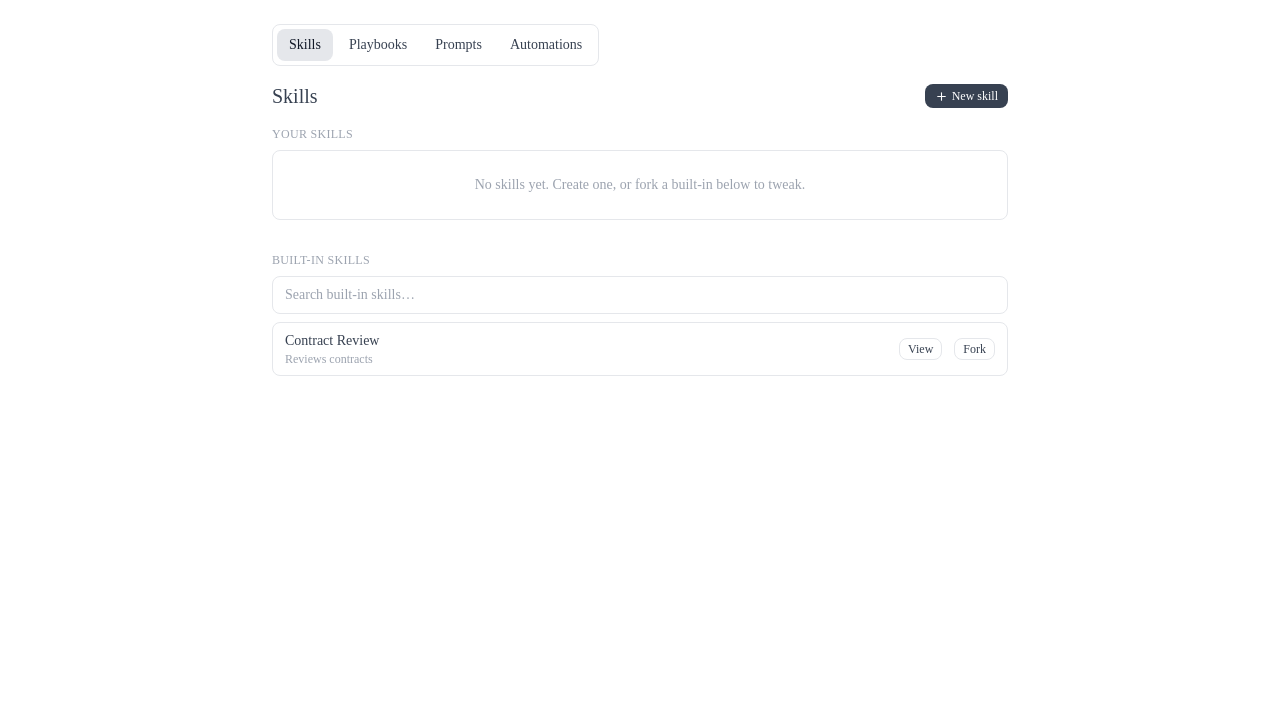
it: /skills index › opens the fork confirm modal with a derived slug when a built-in Fork is clicked
Click the button with aria-label "Fork Contract Review". click: (975, 349)
box: x1=954 y1=338 x2=995 y2=360
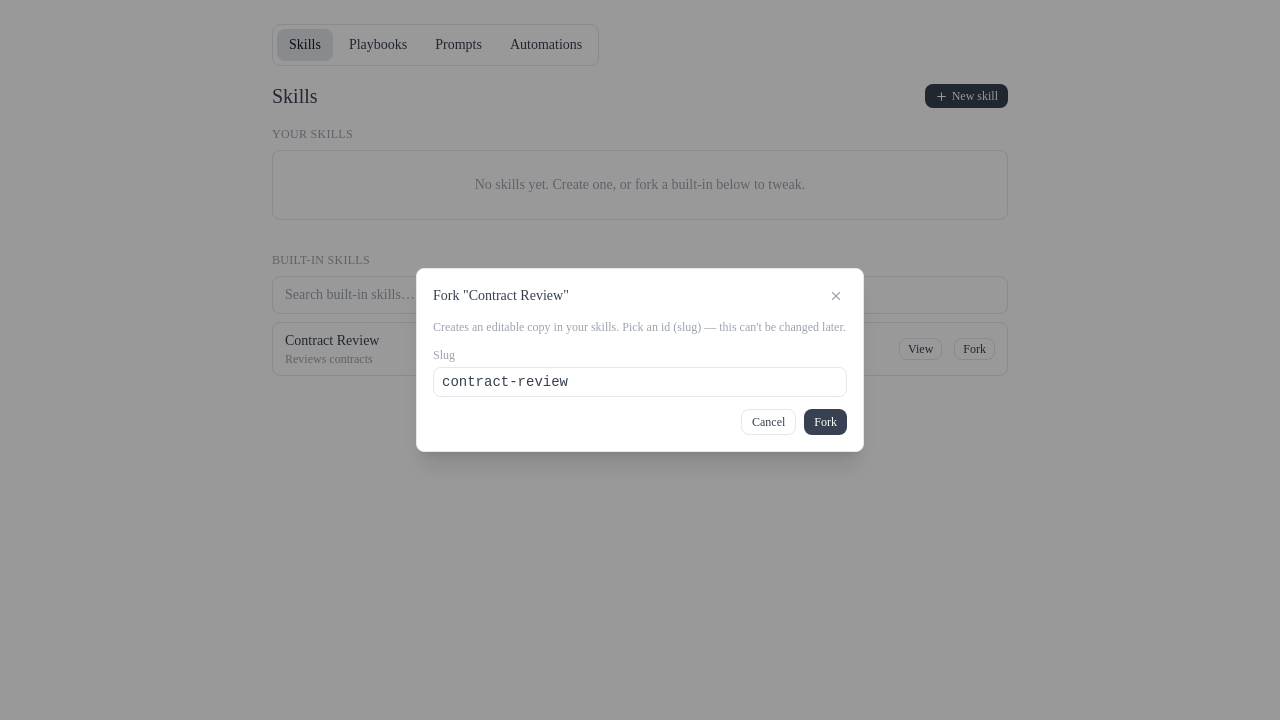
Expected: the dialog named "Fork skill" is shown, x1=416 y1=268 x2=864 y2=452
Expected: the field labelled "Slug" holds "contract-review", x1=433 y1=367 x2=847 y2=397
